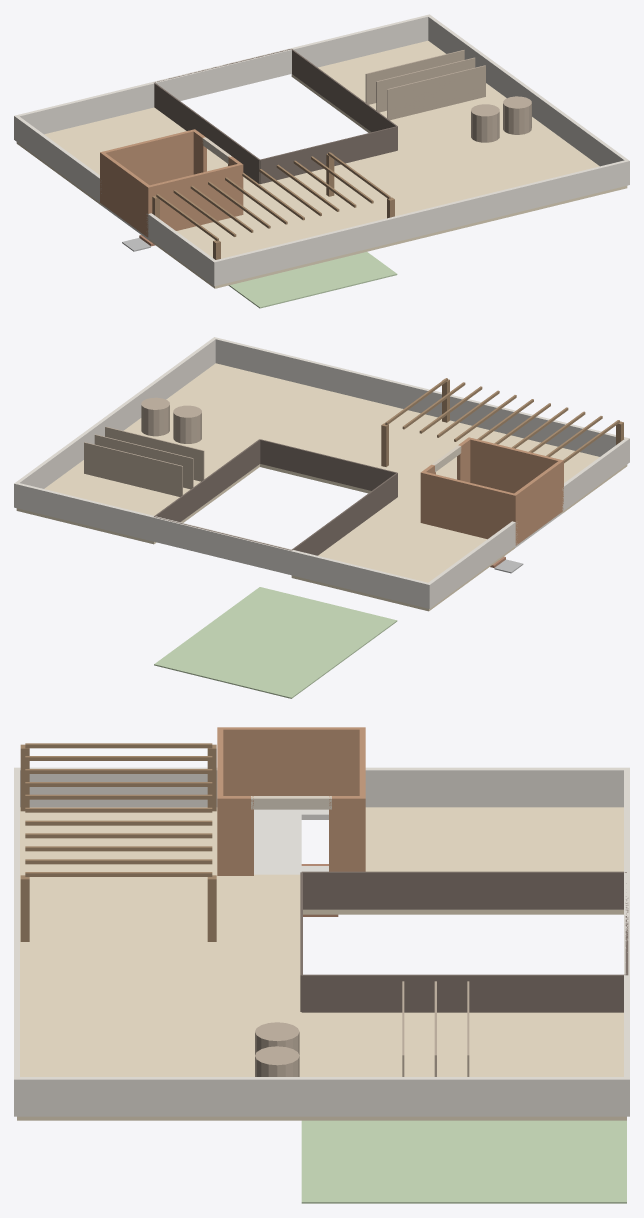
3 views of the same model, one above another, from view 1: azimuth 30°, elevation 25°; view 2: azimuth 150°, elevation 25°; view 3: azimuth 270°, elevation 25° (orthographic). The views are drawn at different scales.
Visible parts, largest first — view 1: n2_pretil_11, n2_pretil_12, n2_piso_azotea_0, n2_piso_tendedero_0, n2_piso_pergola_0, n2_pretil_15, n2_patio_abajo, n2_muro_1, n2_muro_2, n2_tendedero0, n2_barandal_7, n2_piso_azotea_s_0 (+12 smaller); view 2: n2_patio_abajo, n2_piso_azotea_0, n2_pretil_12, n2_pretil_11, n2_piso_tendedero_0, n2_muro_2, n2_pretil_15, n2_piso_mirador_0, n2_piso_pergola_0, n2_piso_azotea_o_0, n2_muro_1, n2_tendedero2 (+12 smaller); view 3: n2_piso_azotea_0, n2_patio_abajo, n2_piso_tendedero_0, n2_pretil_15, n2_piso_pergola_0, n2_piso_mirador_0, n2_barandal_9, n2_barandal_10, n2_pretil_14, n2_muro_3, n2_piso_azotea_s_0, n2_pretil_13 (+24 smaller).
Part boxes in pixels (box(x1,y1,x2,y2)): n2_pretil_11: box(212, 159, 629, 285); n2_pretil_12: box(14, 14, 431, 134); n2_piso_azotea_0: box(334, 136, 627, 243); n2_piso_tendedero_0: box(291, 40, 558, 169); n2_piso_pergola_0: box(149, 193, 398, 288); n2_pretil_15: box(428, 16, 627, 166); n2_patio_abajo: box(228, 252, 397, 308); n2_muro_1: box(146, 163, 243, 237); n2_muro_2: box(100, 129, 196, 203); n2_tendedero0: box(387, 65, 485, 120); n2_barandal_7: box(260, 126, 397, 184); n2_piso_azotea_s_0: box(260, 151, 423, 203); n2_patio_abajo: box(154, 587, 397, 698); n2_piso_azotea_0: box(166, 363, 441, 466); n2_pretil_12: box(14, 483, 431, 608); n2_pretil_11: box(213, 337, 629, 463); n2_piso_tendedero_0: box(16, 415, 285, 544); n2_muro_2: box(420, 472, 517, 545); n2_pretil_15: box(15, 338, 215, 488); n2_piso_mirador_0: box(337, 523, 514, 611); n2_piso_pergola_0: box(378, 420, 627, 514); n2_piso_azotea_o_0: box(291, 480, 421, 588); n2_muro_1: box(467, 437, 563, 511); n2_tendedero2: box(84, 442, 182, 496); n2_piso_azotea_0: box(17, 943, 220, 1120); n2_patio_abajo: box(301, 1120, 626, 1203); n2_piso_tendedero_0: box(220, 1012, 626, 1120); n2_pretil_15: box(14, 1077, 629, 1116); n2_piso_pergola_0: box(20, 807, 220, 943); n2_piso_mirador_0: box(365, 807, 623, 871); n2_barandal_9: box(301, 871, 626, 909); n2_barandal_10: box(301, 974, 625, 1012); n2_pretil_14: box(365, 767, 629, 807); n2_muro_3: box(217, 727, 362, 795); n2_piso_azotea_s_0: box(220, 909, 300, 1011); n2_pretil_13: box(14, 767, 217, 807).
Size of the model in its own units: 36.3 by 14.6 by 30.3.
